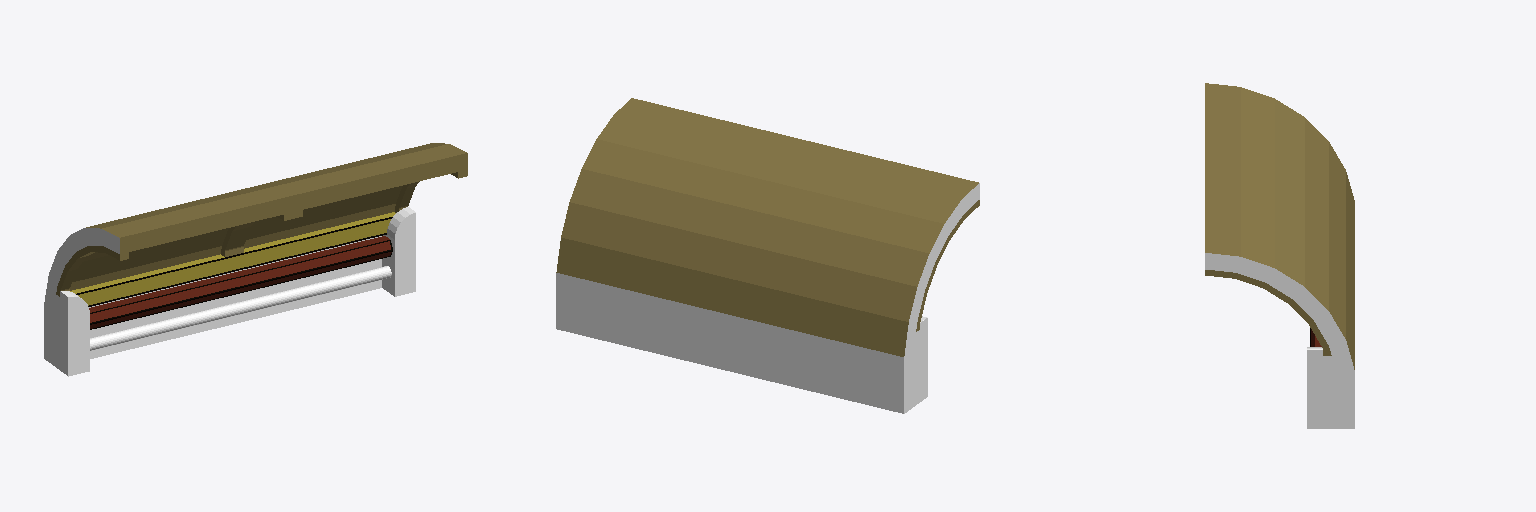
The model's file is Background.obj.
3 views of the same model, side by side, from view 1: azimuth 30°, elevation 25°; view 2: azimuth 150°, elevation 25°; view 3: azimuth 270°, elevation 25° (orthographic).
Parts seen in each view (by area): view 1: Mesh1 Model; view 2: Mesh1 Model; view 3: Mesh1 Model.
Boxes of the visible parts, <box> form: Mesh1 Model: <box>44,143,467,376</box>; Mesh1 Model: <box>556,98,979,413</box>; Mesh1 Model: <box>1205,83,1354,428</box>.
Bounding box in the file's own units: 1119 × 542 × 420.